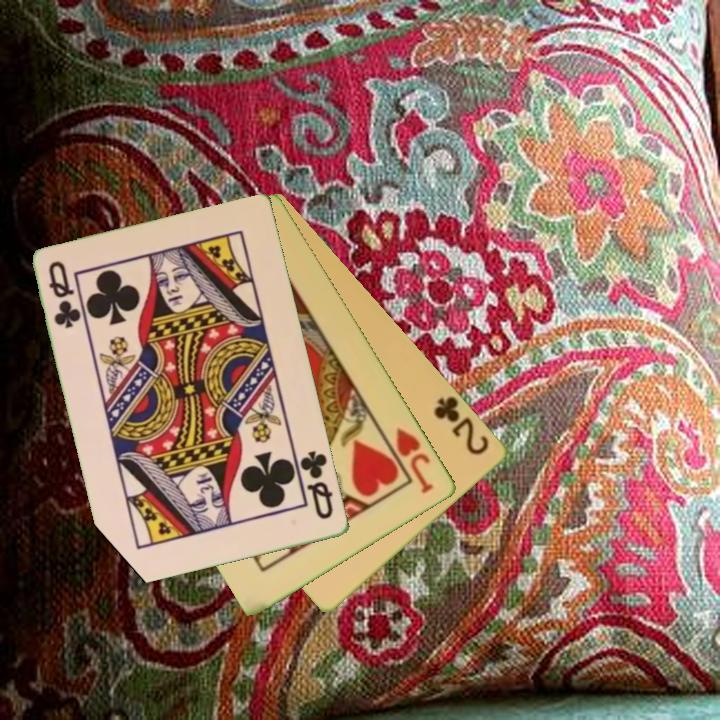2c: (431, 392, 493, 458)
Jh: (379, 423, 437, 497)
Qc: (293, 447, 337, 523), (45, 257, 84, 331)
